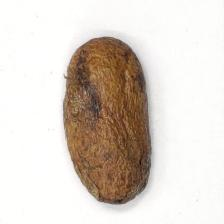NG: (64, 36, 151, 204)
